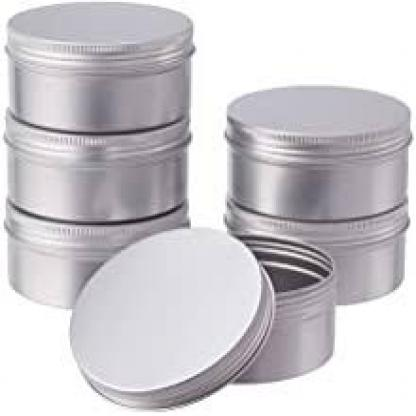METAL: (68, 225, 274, 407), (221, 86, 410, 221), (4, 2, 193, 130), (2, 107, 189, 217), (4, 195, 191, 305), (197, 235, 332, 382), (221, 196, 403, 302)
